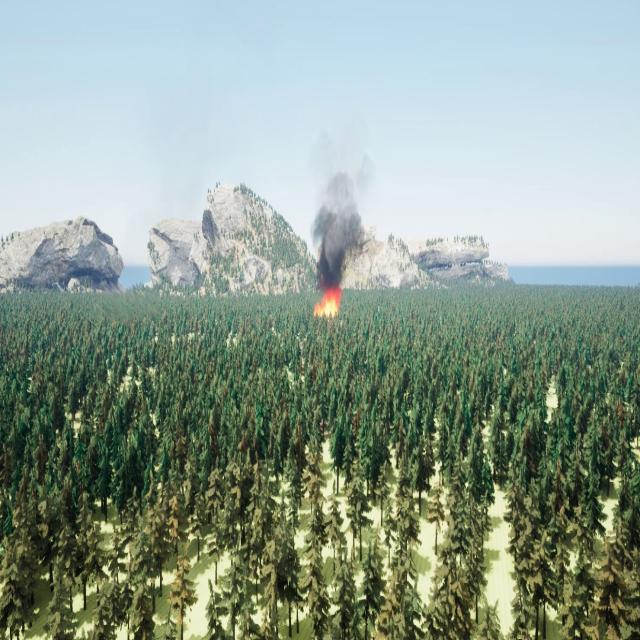fire: (312, 288, 343, 316)
smoke: (310, 118, 382, 282)
